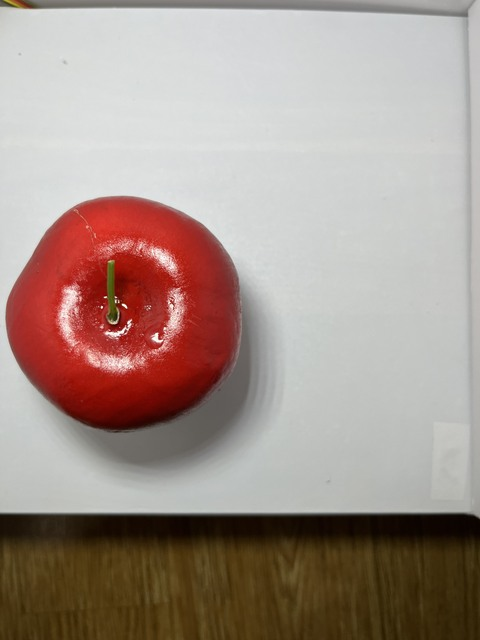Tao: (0, 193, 247, 434)
